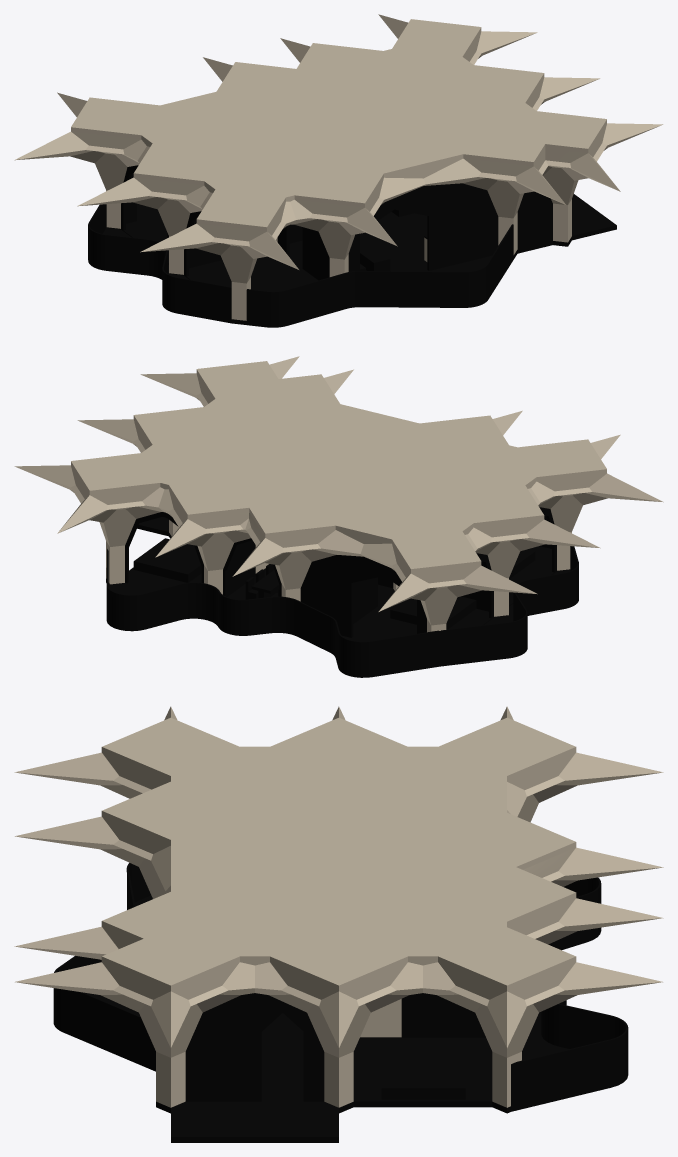
3 views of the same model, one above another, from view 1: azimuth 30°, elevation 25°; view 2: azimuth 150°, elevation 25°; view 3: azimuth 270°, elevation 25° (orthographic). The views are drawn at different scales.
Visible parts, largest first — view 1: santech, object 6, object 10, object 7, object 1, object 5, object 73, object 74, object 3, object 4, object 16, object 53 (+1 smaller); view 2: santech, object 1, object 13, object 7, object 4, object 15, object 14, object 35, object 24, object 17, object 38; view 3: santech, object 7, object 72, object 1, object 3, object 6, object 15, object 35, object 4, object 34, object 5.
Part boxes in pixels (x1,y1,x2,y2): santech: (14,14,663,320); object 6: (246,224,513,323); object 10: (348,183,498,271); object 7: (106,212,571,324); object 1: (88,204,231,318); object 5: (246,255,513,327); object 73: (517,191,552,249); object 74: (277,225,329,280); object 3: (572,194,616,240); object 4: (88,203,231,323); object 16: (251,268,303,291); object 53: (360,245,390,270); santech: (14,356,663,632); object 1: (106,546,578,673); object 13: (300,555,426,637); object 7: (106,533,557,641); object 4: (106,569,578,677); object 15: (133,538,201,582); object 14: (390,596,476,629); object 35: (227,540,255,596); object 24: (353,577,377,623); object 17: (125,512,203,583); object 38: (251,570,279,598); santech: (14,706,663,1107); object 7: (156,1013,510,1113); object 72: (185,993,324,1101); object 1: (511,877,628,1105); object 3: (171,1101,338,1142); object 6: (53,863,155,1065); object 15: (381,1053,465,1099); object 35: (401,993,485,1037); object 4: (511,927,628,1111); object 34: (360,999,401,1037); object 5: (53,895,155,1071).
Size of the model in its own units: 19.26 by 3.96 by 15.46.
